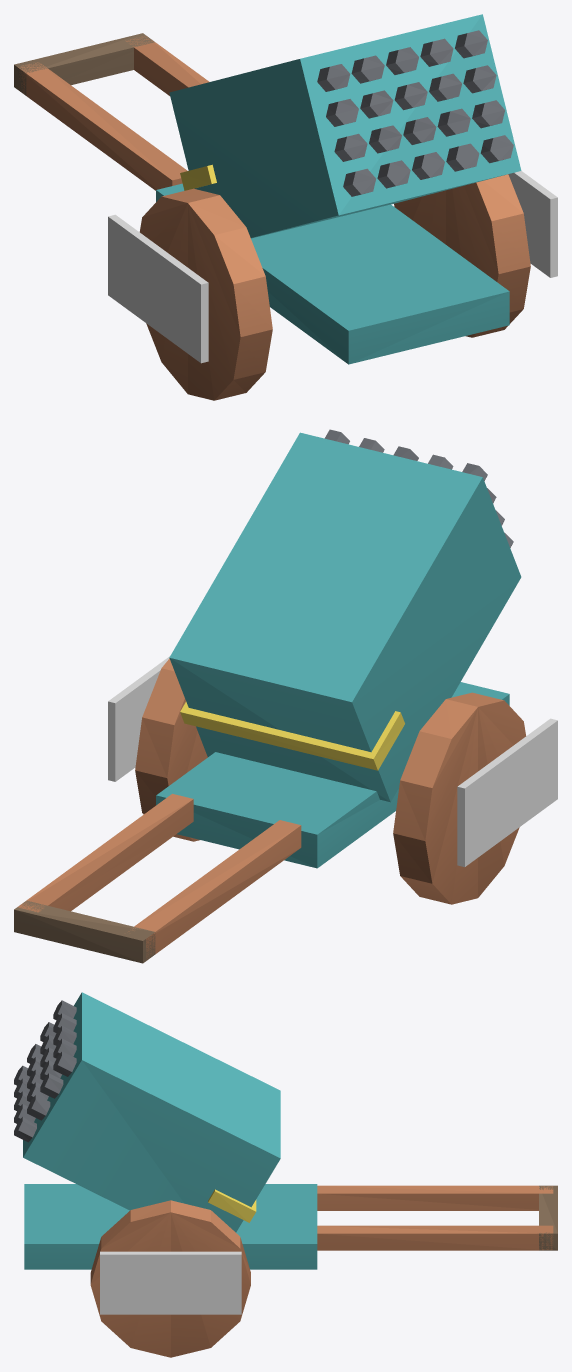
Rendered from Hwach'a.glb.
3 renders of one model, top to bottom at view 1: azimuth 30°, elevation 25°; view 2: azimuth 150°, elevation 25°; view 3: azimuth 270°, elevation 25°, orthographic. The views are drawn at different scales.
Parts seen in each view (by area): view 1: Body; view 2: Body; view 3: Body.
Part boxes in pixels (x1,y1,x2,y2): Body: [14, 14, 557, 400]; Body: [14, 429, 557, 963]; Body: [14, 992, 557, 1357].
Bounding box in the file's own units: 0.664 × 0.6492 × 1.15.
